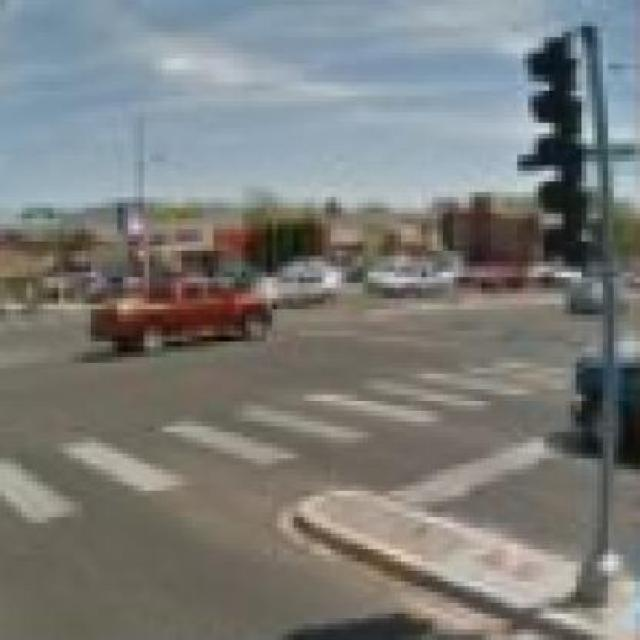crosswalk: (1, 355, 573, 528)
